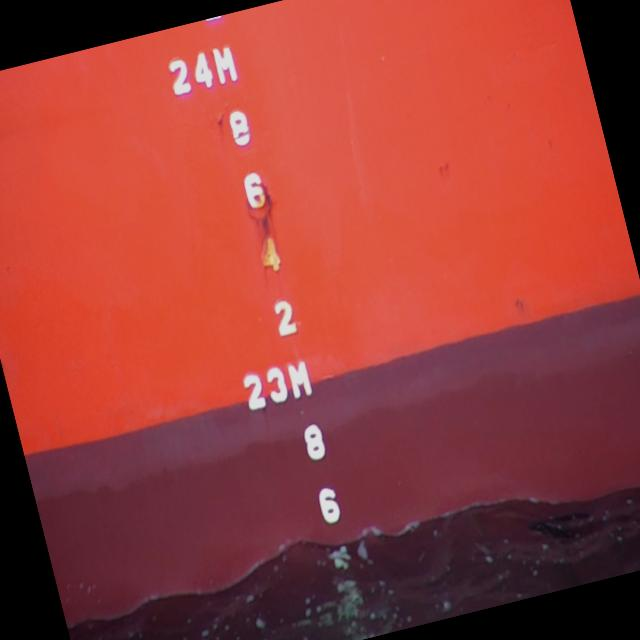Ship Draft Marks: (300, 421, 328, 463), (286, 360, 314, 400), (210, 44, 238, 84), (316, 485, 342, 526), (264, 364, 290, 404), (189, 50, 215, 90), (241, 372, 267, 411), (241, 171, 267, 210), (272, 298, 298, 336), (256, 236, 282, 274), (166, 58, 192, 95), (228, 108, 252, 146)
